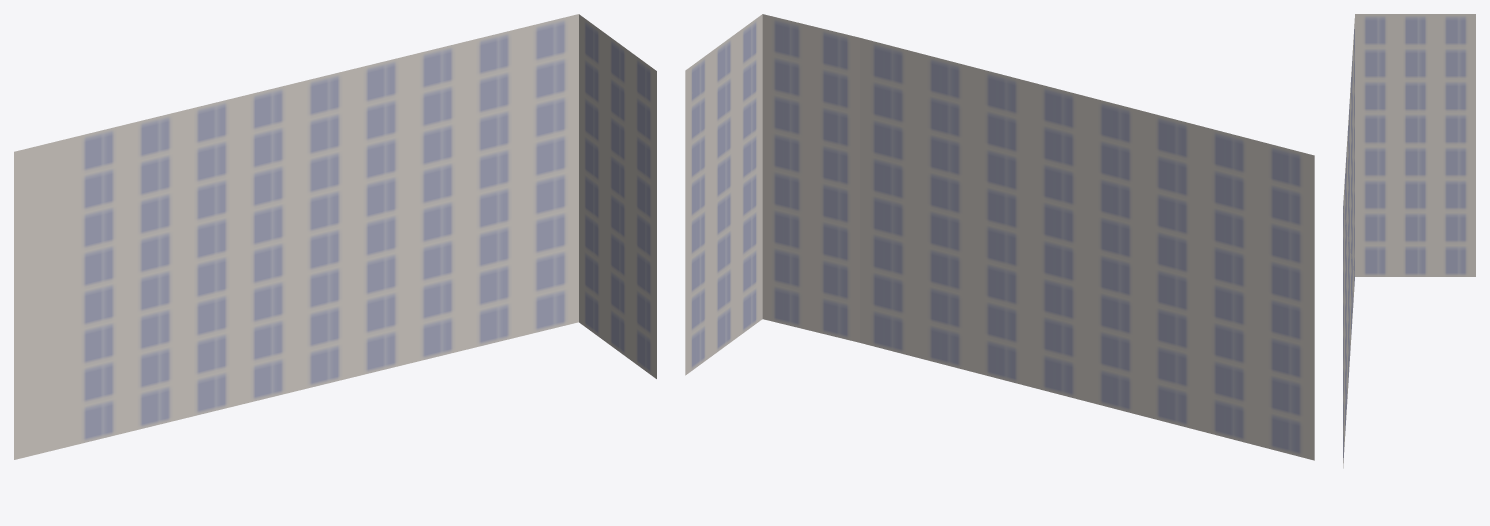
The model's file is testui1.gltf.
The picture shows the model from 3 angles, left to right: view 1: azimuth 30°, elevation 25°; view 2: azimuth 150°, elevation 25°; view 3: azimuth 270°, elevation 25°; orthographic projection. The views are drawn at different scales.
Bounding box in the file's own units: 46 × 24 × 11.
Materials: 2 (2 with a texture image).
